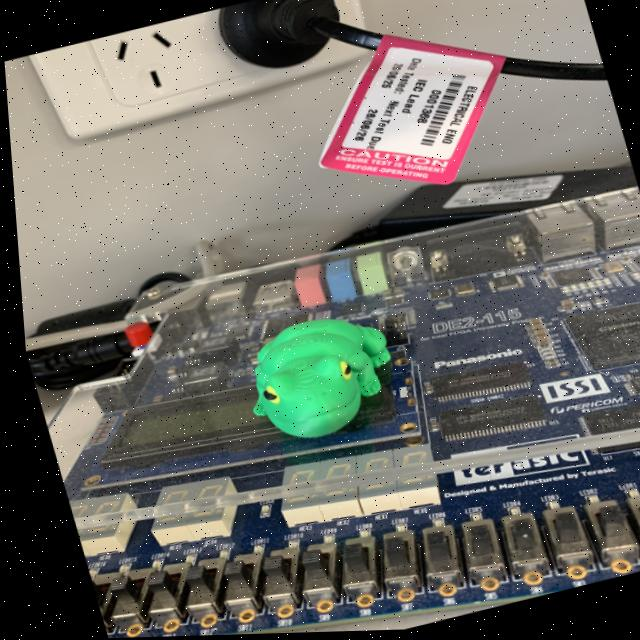frog: (217, 286, 420, 458)
